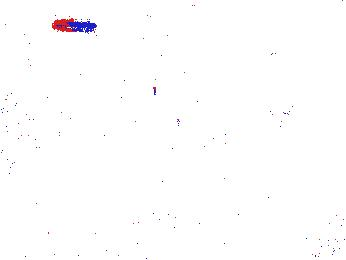X-ray fish: (43, 41, 94, 81)
red belly glassfish: (54, 18, 103, 33), (267, 48, 304, 66)
